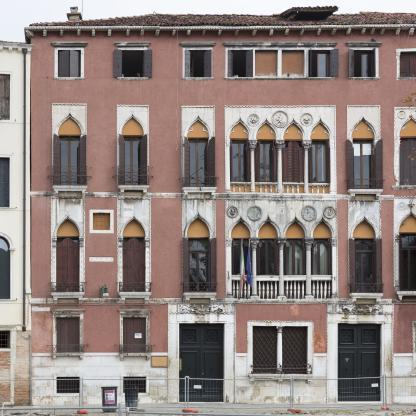Blind: (253, 326, 308, 374), (122, 238, 146, 292), (56, 238, 79, 293), (282, 141, 304, 183), (399, 137, 416, 185), (57, 318, 80, 353), (123, 318, 146, 353), (58, 50, 80, 77), (373, 139, 383, 190), (78, 135, 87, 185), (374, 238, 382, 293), (182, 237, 190, 292), (209, 238, 217, 293), (400, 51, 416, 78), (53, 134, 61, 185), (346, 139, 354, 189), (208, 137, 215, 187), (140, 135, 147, 185), (350, 238, 356, 293), (328, 49, 339, 77), (119, 135, 125, 185), (255, 141, 261, 183), (246, 140, 252, 182), (185, 137, 190, 187), (144, 49, 152, 78), (114, 49, 122, 77), (245, 50, 253, 77), (273, 240, 279, 276), (325, 141, 330, 184), (204, 50, 211, 77), (370, 48, 376, 77), (309, 140, 313, 183), (273, 141, 277, 183), (185, 50, 191, 77), (349, 49, 355, 76), (228, 50, 233, 77), (230, 140, 233, 182), (303, 240, 306, 276), (257, 240, 260, 276), (249, 240, 252, 276), (231, 240, 234, 276), (284, 240, 287, 276), (310, 48, 312, 77)
Building Outline: (24, 5, 416, 404)
Cornice: (183, 209, 214, 237), (55, 108, 85, 135), (53, 211, 83, 237), (184, 111, 213, 137), (349, 113, 378, 138), (120, 212, 149, 237), (307, 114, 334, 140), (253, 114, 280, 140), (280, 114, 307, 140), (255, 212, 282, 238), (282, 212, 309, 238), (222, 41, 339, 47), (119, 110, 147, 135), (350, 214, 379, 238), (228, 212, 254, 238), (310, 212, 336, 238), (227, 113, 252, 139), (396, 111, 416, 137), (345, 41, 383, 47), (179, 41, 217, 46), (51, 42, 89, 47), (114, 42, 152, 47), (50, 309, 86, 312), (118, 310, 153, 312)
Deco: (336, 303, 384, 315), (177, 304, 227, 314)
Door: (179, 323, 223, 402), (338, 323, 380, 402)
Facade: (30, 26, 416, 405)
Floor: (31, 100, 416, 206), (31, 206, 416, 310)
Floor Slab: (31, 93, 416, 100), (31, 199, 416, 206), (31, 303, 416, 310)
Ground Floor: (31, 310, 416, 404)
Molding: (24, 24, 416, 37)
Roof: (29, 11, 416, 26)
Sill: (248, 373, 314, 384), (224, 77, 336, 81), (118, 292, 152, 305), (52, 185, 88, 197), (181, 187, 217, 199), (51, 292, 86, 304), (347, 189, 384, 200), (182, 292, 217, 303), (349, 293, 383, 303), (117, 185, 150, 195), (118, 352, 152, 360), (51, 353, 84, 360), (182, 77, 214, 81), (117, 77, 149, 81), (392, 185, 416, 190), (348, 77, 381, 80), (54, 77, 86, 80), (396, 77, 416, 80)
Top Floor: (31, 25, 416, 100)
Window: (253, 326, 308, 374), (257, 239, 279, 299), (284, 239, 306, 299), (311, 239, 333, 299), (122, 238, 146, 292), (187, 239, 211, 293), (56, 238, 79, 293), (231, 239, 252, 299), (186, 137, 211, 187), (120, 135, 145, 185), (353, 239, 376, 293), (58, 136, 82, 186), (352, 139, 375, 189), (308, 141, 330, 183), (229, 140, 251, 182), (255, 141, 277, 183), (282, 141, 304, 183), (399, 137, 416, 185), (123, 318, 146, 353), (57, 318, 80, 353), (353, 50, 376, 77), (121, 50, 144, 77), (186, 50, 209, 77), (229, 50, 252, 77), (255, 50, 278, 77), (58, 50, 80, 77), (282, 50, 304, 77), (309, 50, 331, 77), (400, 51, 416, 78), (57, 377, 80, 393), (124, 377, 146, 393), (93, 213, 110, 230)
